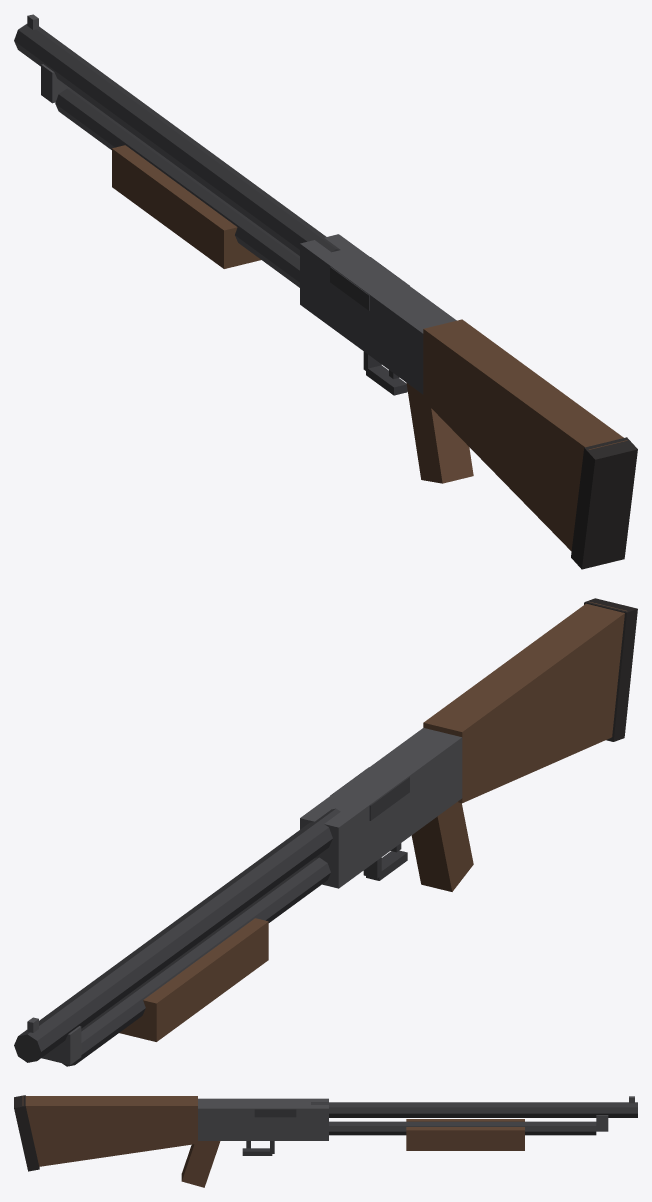
Rendered from shotgun.glb.
3 views of the same model, one above another, from view 1: azimuth 30°, elevation 25°; view 2: azimuth 150°, elevation 25°; view 3: azimuth 270°, elevation 25° (orthographic). The views are drawn at different scales.
Visible parts, largest first — view 1: shotgun; view 2: shotgun; view 3: shotgun.
Part boxes in pixels (box(x1,y1,x2,y2)): shotgun: box(14, 14, 637, 569); shotgun: box(14, 598, 637, 1066); shotgun: box(14, 1095, 637, 1187).
Size of the model in its own units: 0.046 by 0.1609 by 1.05.
